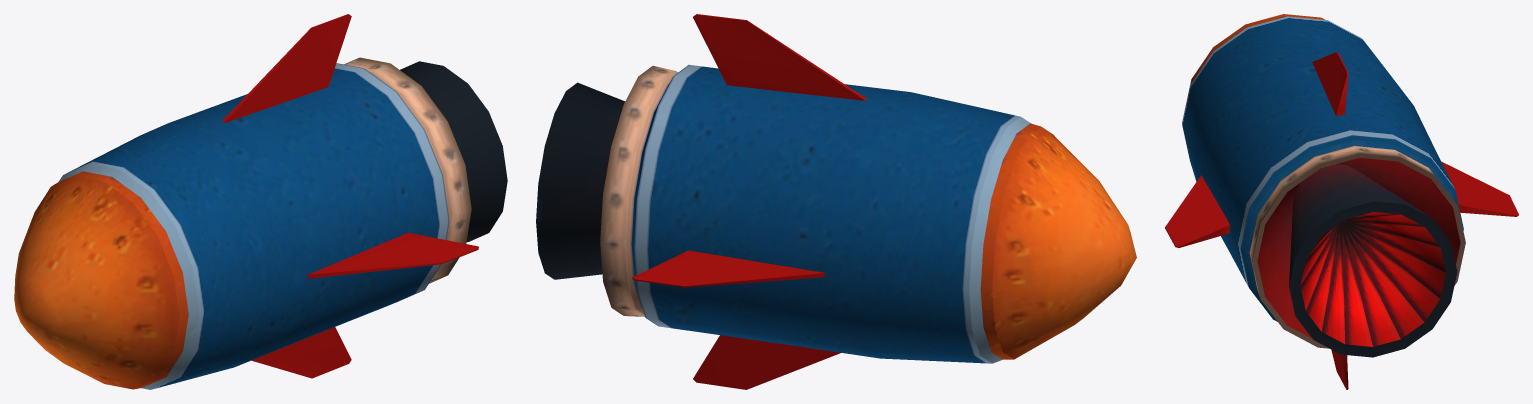
The model's file is rocket.glb.
The picture shows the model from 3 angles, left to right: view 1: azimuth 30°, elevation 25°; view 2: azimuth 150°, elevation 25°; view 3: azimuth 270°, elevation 25°; orthographic projection. The views are drawn at different scales.
Parts seen in each view (by area): view 1: node_id37; view 2: node_id37; view 3: node_id37.
Part boxes in pixels (<box>): node_id37: <box>14,14,507,389</box>; node_id37: <box>536,14,1136,389</box>; node_id37: <box>1165,14,1518,389</box>.
Bounding box in the file's own units: 0.7621 × 0.512 × 0.5135.
Materials: 1 (1 with a texture image).
